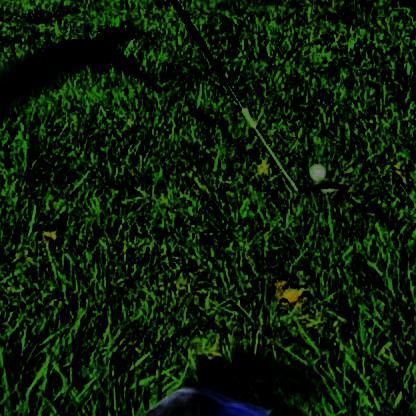golfball: (305, 161, 322, 180)
